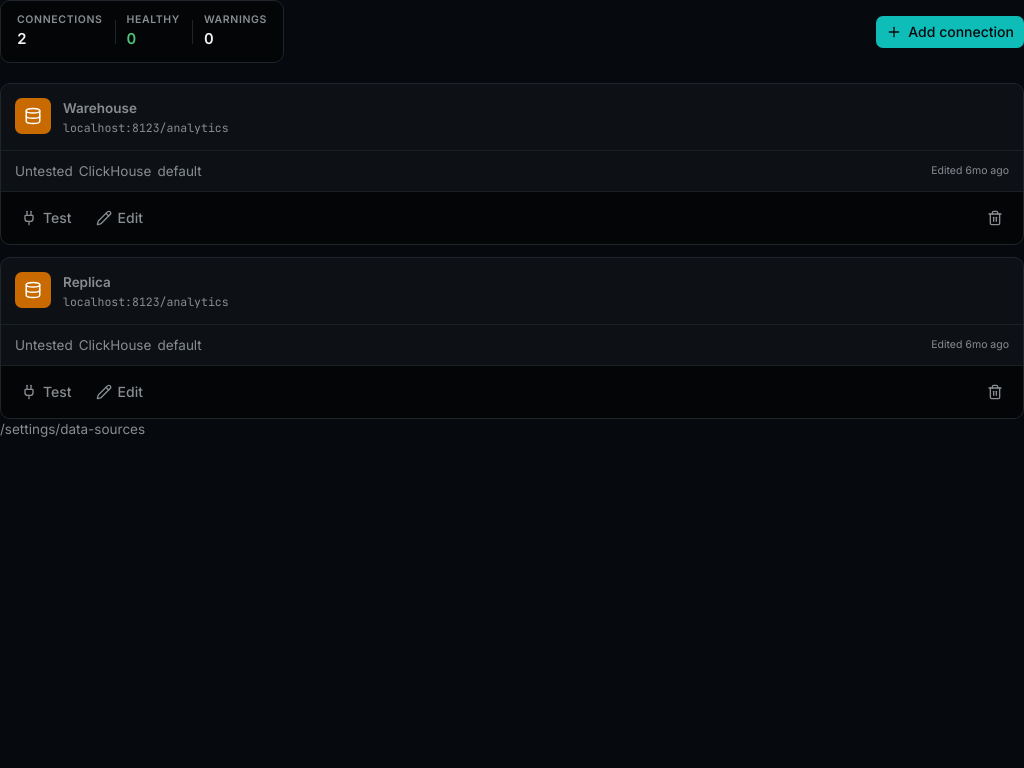
it: DataSourcesPage › shows a failed delete on the card it failed for, and keeps the app-wide toast quiet
Click the button named "Delete data source Warehouse". click: (995, 218)
box: 977,200 -> 1013,236
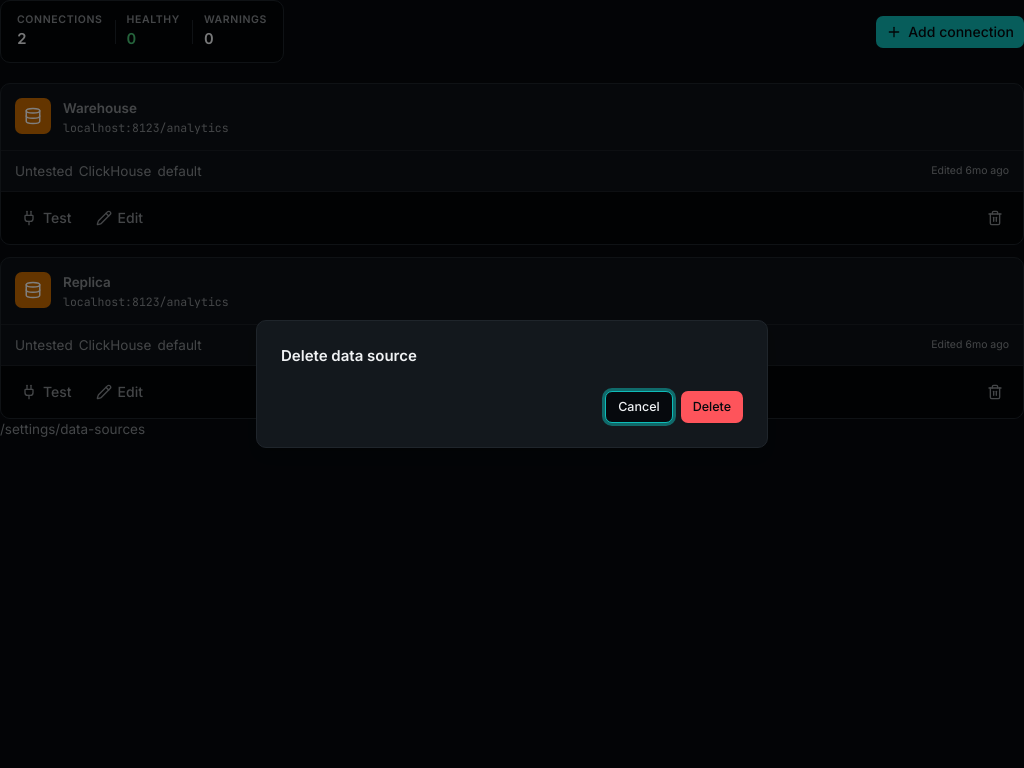
Click the button "Delete". click: (712, 407)
box: 681,391 -> 743,423
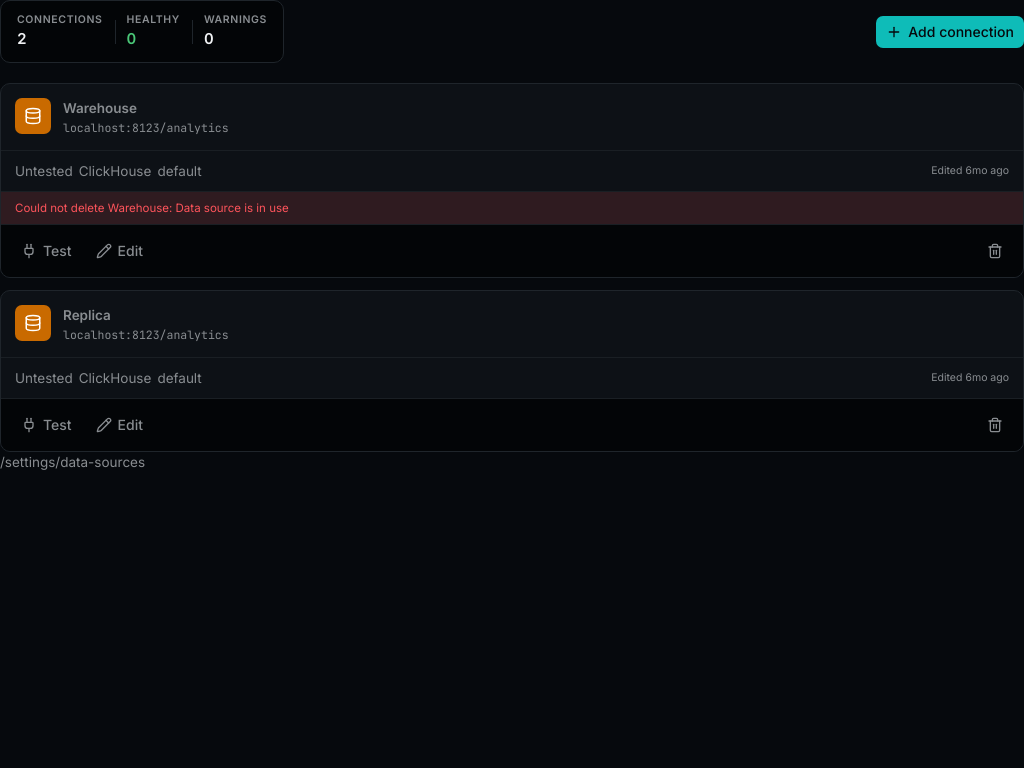
Expected: the message reads "Could not delete Warehouse: Data source is in use", 1,191 -> 1023,224
Expected: the number of messages is 1, 1,191 -> 1023,224
